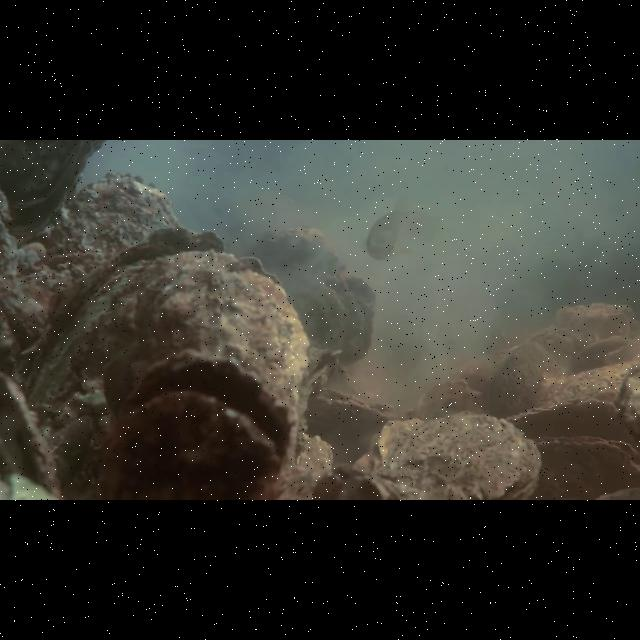Oyster-Closed: (15, 229, 242, 410), (132, 254, 310, 414), (247, 223, 379, 367), (27, 174, 187, 291), (351, 411, 548, 497), (4, 371, 62, 496), (485, 340, 573, 421), (498, 392, 619, 433), (535, 433, 640, 477), (313, 388, 396, 422)
Oyster-Open: (114, 352, 297, 474), (568, 330, 633, 373)
